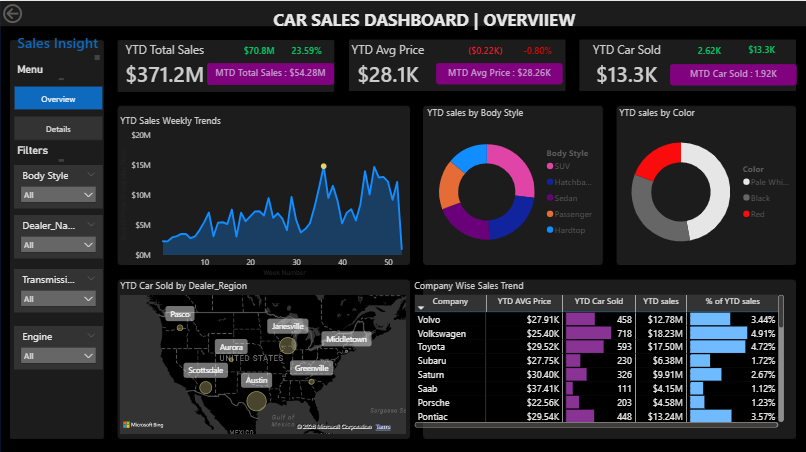

What the dashboard file says about the page in this screenshot:
{"tool":"powerbi","page":{"name":"Overview","canvas":[1280,720],"ordinal":0},"visuals":[{"type":"card","title":"YTD Total Sales ","fields":{"Values":["Calculated_Measures.YTD sales"]},"box":[185,63.3,151.7,78.3],"z":0},{"type":"card","fields":{"Values":["Calculated_Measures.Sales Difference"]},"box":[368.3,61.7,86.7,38.3],"z":1000},{"type":"card","fields":{"Values":["Calculated_Measures.YoY Sales Growth"]},"box":[448.3,63.3,78.3,35],"z":2000},{"type":"card","title":"YTD Avg Price","fields":{"Values":["Calculated_Measures.AVG Price"]},"box":[548.6,62.9,132.9,78.6],"z":3000},{"type":"card","fields":{"Values":["Calculated_Measures.AVG Price Difference"]},"box":[727.1,61.4,87.1,38.6],"z":4000},{"type":"card","fields":{"Values":["Calculated_Measures.YOY Avg Price Growth"]},"box":[814.3,62.9,78.6,34.3],"z":5000},{"type":"card","fields":{"Values":["Calculated_Measures.MTD KPI"]},"box":[328.3,98.3,201.7,35],"z":6000},{"type":"card","fields":{"Values":["Calculated_Measures.MTD Avg Price KPI"]},"box":[691.4,98.6,201.4,34.3],"z":7000},{"type":"card","title":"YTD Car Sold ","fields":{"Values":["Calculated_Measures.YTD Car Sold"]},"box":[918.6,62.9,151.4,78.6],"z":8000},{"type":"card","fields":{"Values":["Calculated_Measures.Car Sold Difference"]},"box":[1082.9,61.4,87.1,38.6],"z":9000},{"type":"card","fields":{"Values":["Calculated_Measures.YTD Car Sold"]},"box":[1170,61.4,78.6,35.7],"z":10000},{"type":"card","fields":{"Values":["Calculated_Measures.MTD Car Sold KPI"]},"box":[1062.9,100,201.4,34.3],"z":11000},{"type":"areaChart","title":"YTD Sales Weekly Trends ","fields":{"Category":["Calendar Table.Week Number"],"Y":["Sum(car_data.Price ($))","Calculated_Measures.Max Point"]},"box":[185.7,178.6,474.3,262.9],"z":12000},{"type":"donutChart","fields":{"Category":["car_data.Body Style"],"Y":["Calculated_Measures.YTD sales"]},"box":[672.9,167.1,281.4,252.9],"z":13000},{"type":"donutChart","fields":{"Category":["car_data.Color"],"Y":["Calculated_Measures.YTD sales"]},"box":[977.1,167.1,290,252.9],"z":14000},{"type":"map","fields":{"Category":["car_data.Dealer_Region"],"Size":["Calculated_Measures.YTD Car Sold"]},"box":[185.7,441.4,464.3,251.4],"z":15000},{"type":"tableEx","title":"Company Wise Sales Trend","fields":{"Values":["car_data.Company","Calculated_Measures.YTD AVG Price","Calculated_Measures.YTD Car Sold","Calculated_Measures.YTD sales","Calculated_Measures.% of YTD sales"]},"box":[652.4,441.3,596.8,241.3],"z":16000},{"type":"textbox","title":"CAR SALES DASHBOARD | OVERVIIEW","box":[391.4,11.4,562.9,40],"z":17000},{"type":"slicer","fields":{"Values":["car_data.Body Style"]},"box":[21.4,260,141.4,68.6],"z":18000},{"type":"slicer","fields":{"Values":["car_data.Transmission"]},"box":[21.4,425.7,141.4,68.6],"z":19000},{"type":"slicer","fields":{"Values":["car_data.Engine"]},"box":[21.4,515.7,141.4,68.6],"z":20000},{"type":"slicer","fields":{"Values":["car_data.Dealer_Name"]},"box":[21.4,340,141.4,68.6],"z":21000},{"type":"textbox","title":"Filters","box":[21.4,227.1,84.3,32.9],"z":21001},{"type":"textbox","title":"Sales Insight","box":[22.2,50.8,141.3,47.6],"z":21002},{"type":"textbox","title":"Menu","box":[22.2,98.4,84.1,31.7],"z":21003},{"type":"pageNavigator","box":[22.2,134.9,141.3,87.3],"z":21004},{"type":"actionButton","box":[0,0,100,40],"z":21005}]}

Visuals, with their boxes in screenshot pixels (x1, y1, x2, y2), scaled from the page's 1280x720 canvas onto the 806x452 screenshot:
"YTD Total Sales " card: (116, 40, 212, 89)
card - Calculated_Measures.Sales Difference: (232, 39, 287, 63)
card - Calculated_Measures.YoY Sales Growth: (282, 40, 332, 62)
"YTD Avg Price" card: (345, 39, 429, 89)
card - Calculated_Measures.AVG Price Difference: (458, 39, 513, 63)
card - Calculated_Measures.YOY Avg Price Growth: (513, 39, 562, 61)
card - Calculated_Measures.MTD KPI: (207, 62, 334, 84)
card - Calculated_Measures.MTD Avg Price KPI: (435, 62, 562, 83)
"YTD Car Sold " card: (578, 39, 674, 89)
card - Calculated_Measures.Car Sold Difference: (682, 39, 737, 63)
card - Calculated_Measures.YTD Car Sold: (737, 39, 786, 61)
card - Calculated_Measures.MTD Car Sold KPI: (669, 63, 796, 84)
"YTD Sales Weekly Trends " areaChart: (117, 112, 416, 277)
donutChart - car_data.Body Style x Calculated_Measures.YTD sales: (424, 105, 601, 264)
donutChart - car_data.Color x Calculated_Measures.YTD sales: (615, 105, 798, 264)
map - car_data.Dealer_Region x Calculated_Measures.YTD Car Sold: (117, 277, 409, 435)
"Company Wise Sales Trend" tableEx: (411, 277, 787, 429)
"CAR SALES DASHBOARD | OVERVIIEW" textbox: (246, 7, 601, 32)
slicer - car_data.Body Style: (13, 163, 103, 206)
slicer - car_data.Transmission: (13, 267, 103, 310)
slicer - car_data.Engine: (13, 324, 103, 367)
slicer - car_data.Dealer_Name: (13, 213, 103, 257)
"Filters" textbox: (13, 143, 67, 163)
"Sales Insight" textbox: (14, 32, 103, 62)
"Menu" textbox: (14, 62, 67, 82)
pageNavigator: (14, 85, 103, 139)
actionButton: (0, 0, 63, 25)
